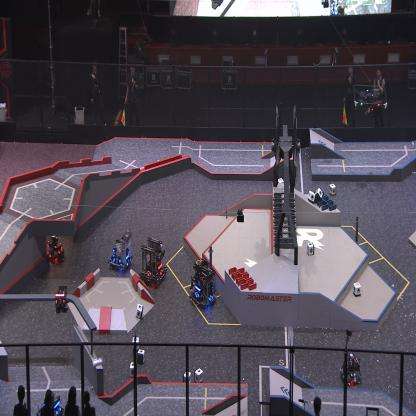car: (188, 257, 218, 308), (139, 236, 168, 287), (107, 228, 133, 272), (339, 352, 362, 386), (36, 390, 65, 416), (45, 234, 66, 264)
